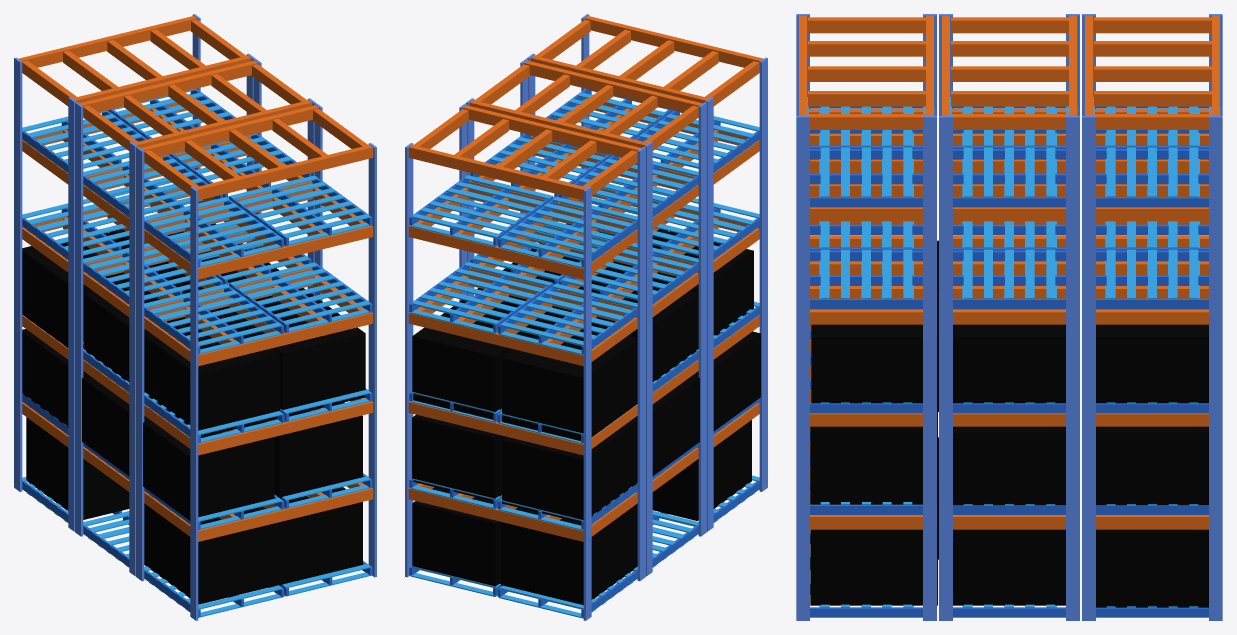
The model's file is bmetracks.glb.
The picture shows the model from 3 angles, left to right: view 1: azimuth 30°, elevation 25°; view 2: azimuth 150°, elevation 25°; view 3: azimuth 270°, elevation 25°; orthographic projection. The views are drawn at different scales.
Parts seen in each view (by area): view 1: Box5_2, Box4_2, Box2_2, Box6_2, Box3_2, Box1_2, Box2, Box5, post_9, post_3, post_1, post_5 (+46 smaller); view 2: Box5, Box4, Box2, Box6, Box1, Box3, Box2_2, post_11, post_9, post_3, post_7, Box4_1 (+47 smaller); view 3: Box6_2, Box6, Box6_1, Box3_1, Box3, Box3_2, Box1, Box1_2, Box1_1, post, post_2, post_4 (+84 smaller).
Part boxes in pixels (bbox=[...]): Box5_2: bbox=[144, 314, 280, 437]; Box4_2: bbox=[143, 416, 274, 520]; Box2_2: bbox=[144, 503, 278, 604]; Box6_2: bbox=[228, 293, 365, 415]; Box3_2: bbox=[256, 402, 362, 498]; Box1_2: bbox=[260, 487, 362, 585]; Box2: bbox=[26, 417, 129, 519]; Box5: bbox=[22, 232, 157, 347]; post_9: bbox=[14, 57, 22, 491]; post_3: bbox=[190, 186, 198, 620]; post_1: bbox=[136, 147, 144, 581]; post_5: bbox=[75, 102, 83, 536]; Box5: bbox=[502, 321, 637, 440]; Box4: bbox=[502, 418, 637, 522]; Box2: bbox=[501, 503, 637, 604]; Box6: bbox=[412, 299, 549, 419]; Box1: bbox=[412, 487, 519, 586]; Box3: bbox=[412, 414, 505, 500]; Box2_2: bbox=[652, 420, 751, 520]; post_11: bbox=[637, 147, 645, 581]; post_9: bbox=[583, 186, 591, 620]; post_3: bbox=[759, 57, 767, 491]; post_7: bbox=[698, 102, 706, 536]; Box4_1: bbox=[634, 374, 699, 475]; Box6_2: bbox=[811, 289, 938, 411]; Box6: bbox=[1096, 324, 1208, 403]; Box6_1: bbox=[953, 324, 1065, 403]; Box3_1: bbox=[953, 426, 1065, 505]; Box3: bbox=[1096, 426, 1208, 505]; Box3_2: bbox=[810, 412, 937, 505]; Box1: bbox=[1096, 529, 1208, 607]; Box1_2: bbox=[810, 505, 937, 605]; Box1_1: bbox=[953, 529, 1065, 605]; post: bbox=[923, 116, 936, 620]; post_2: bbox=[796, 116, 809, 620]; post_4: bbox=[1066, 116, 1079, 620].
Bounding box in the file's own units: 2.96 × 6.73 × 5.17.
